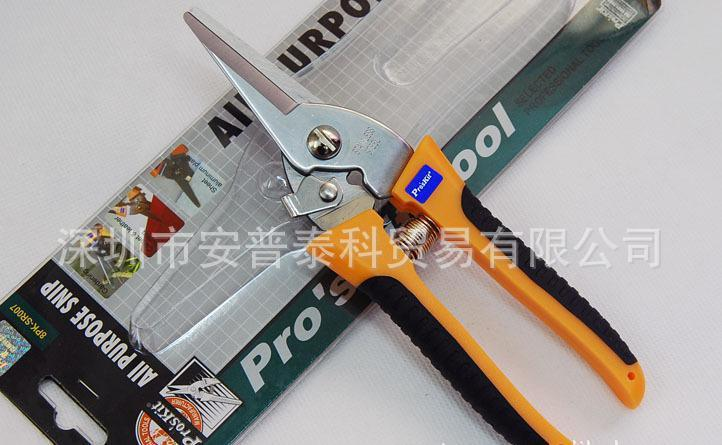scissor: (168, 5, 637, 445)
